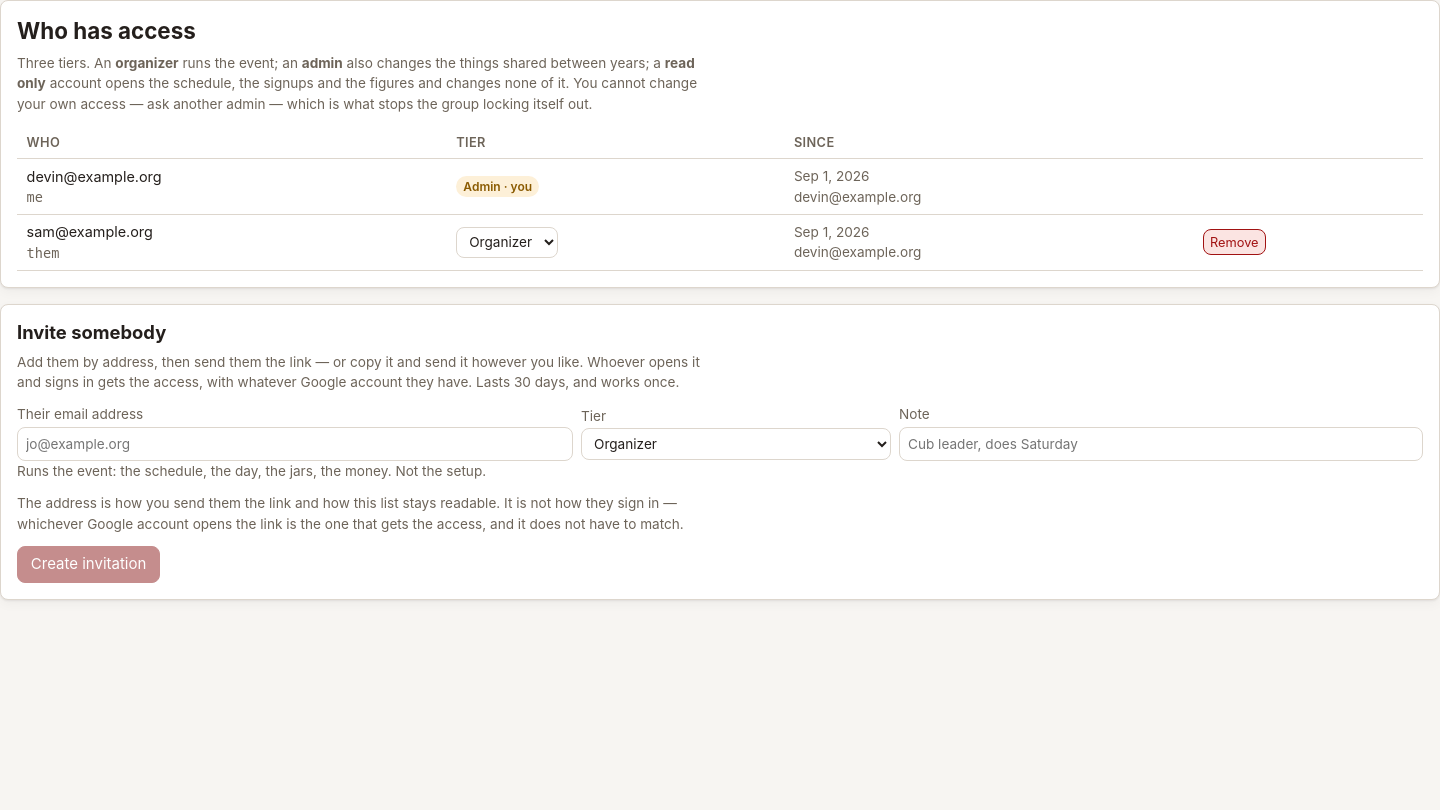
it: inviting somebody › refuses somebody who already has access
Type "SAM@example.org" into the field labelled "Their email address" at (295, 444), box x1=17 y1=427 x2=573 y2=461
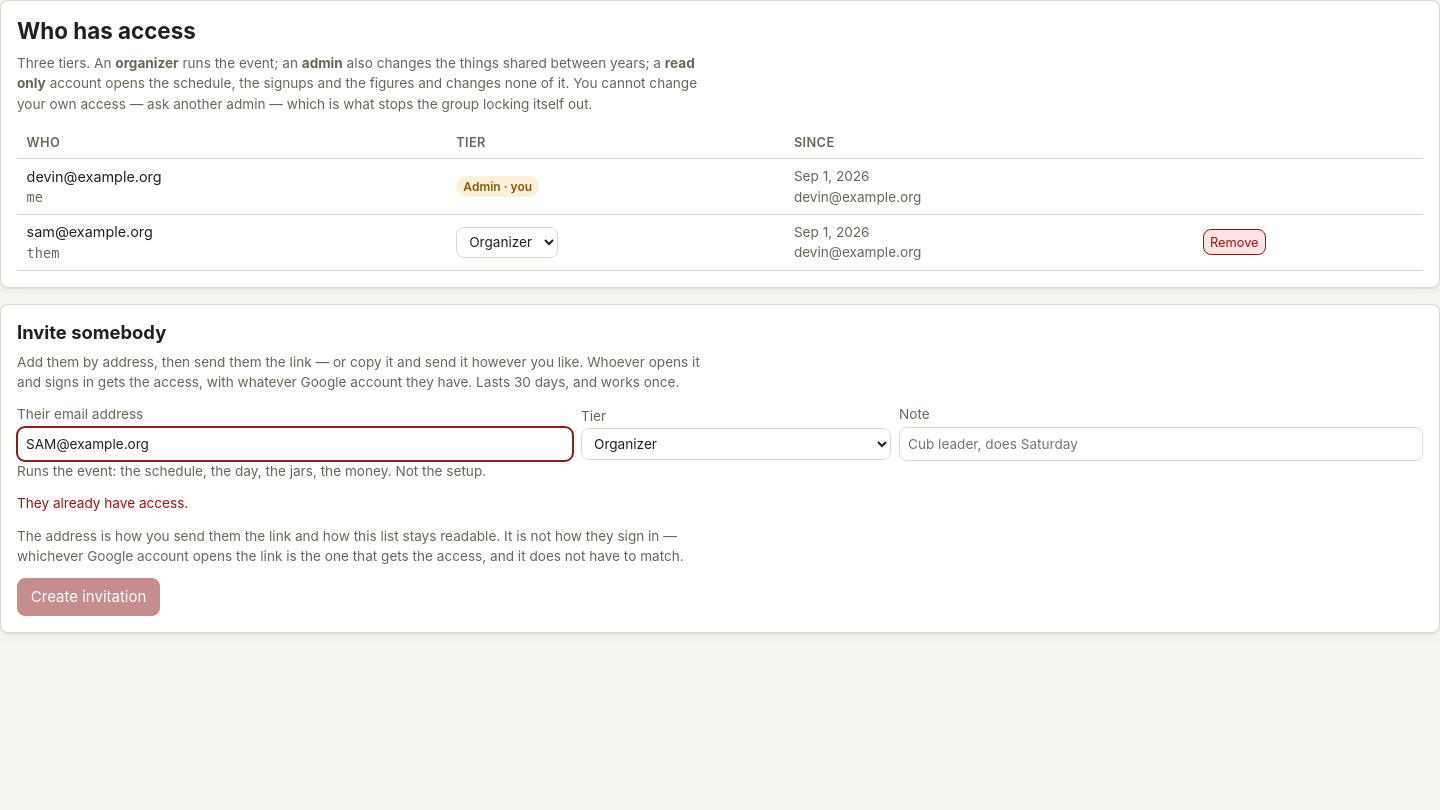
Expected: the button "Create invitation" is disabled, x1=17 y1=578 x2=160 y2=616
Expected: the text "They already have access." is shown, x1=17 y1=495 x2=188 y2=511
